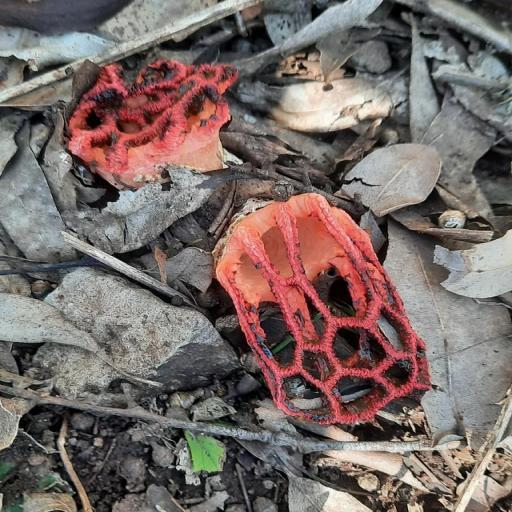mushroom: (189, 165, 444, 455), (69, 59, 237, 189)
